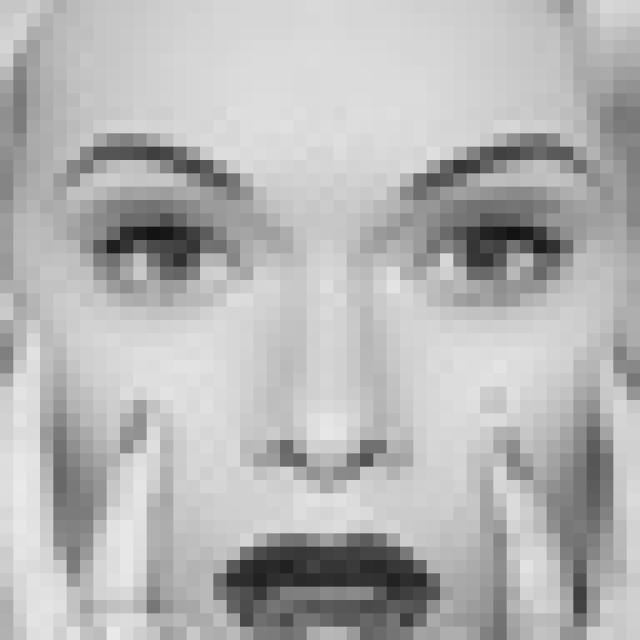surprise: (49, 130, 592, 640)
